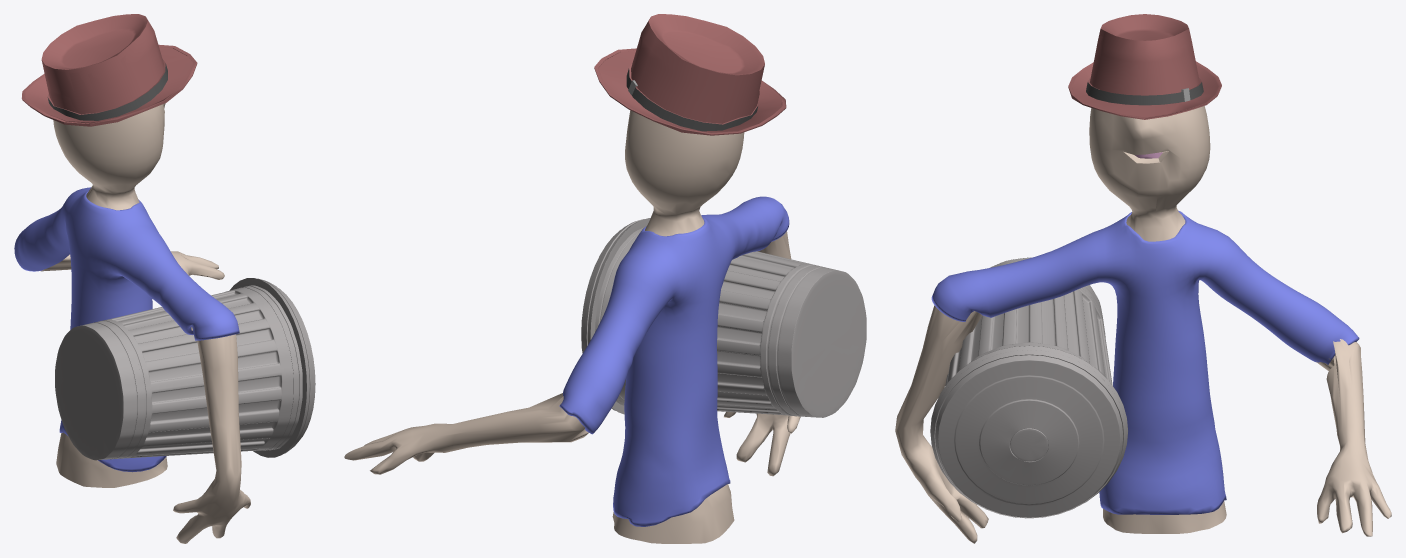
File: inimigohomem.fbx
The picture shows the model from 3 angles, left to right: view 1: azimuth 30°, elevation 25°; view 2: azimuth 150°, elevation 25°; view 3: azimuth 270°, elevation 25°; orthographic projection. The views are drawn at different scales.
Visible parts, largest first — view 1: corpo, LatadeLixo1, chapeu; view 2: corpo, LatadeLixo1, chapeu; view 3: corpo, LatadeLixo1, chapeu.
Boxes of the visible parts, x1,y1,x2,y2 form: corpo: [14, 103, 250, 543]; LatadeLixo1: [55, 278, 315, 460]; chapeu: [21, 14, 197, 126]; corpo: [344, 110, 800, 543]; LatadeLixo1: [581, 218, 866, 417]; chapeu: [594, 14, 786, 135]; corpo: [895, 106, 1391, 543]; LatadeLixo1: [930, 257, 1128, 518]; chapeu: [1068, 14, 1221, 119].
Bounding box in the file's own units: 14.64 × 22.32 × 19.86.
